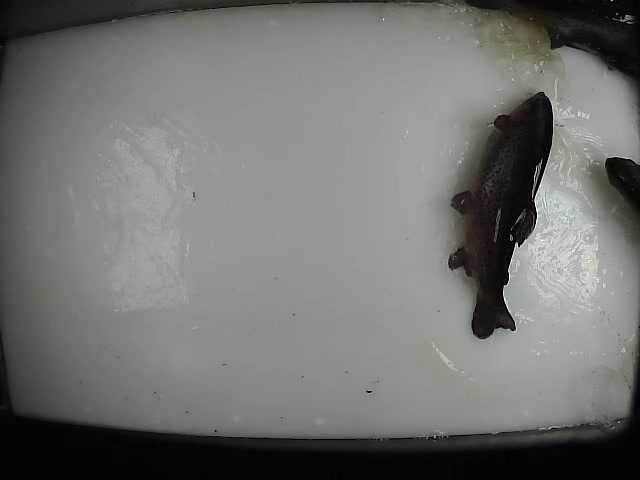fish: (446, 89, 556, 341)
